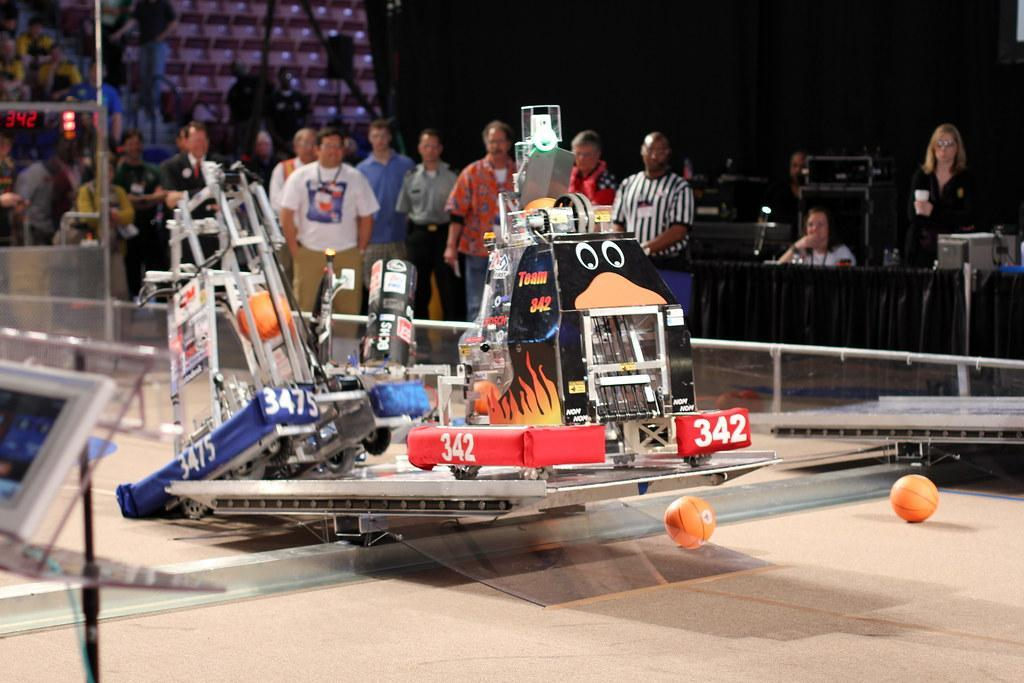robot: (400, 91, 756, 483), (114, 151, 434, 534)
